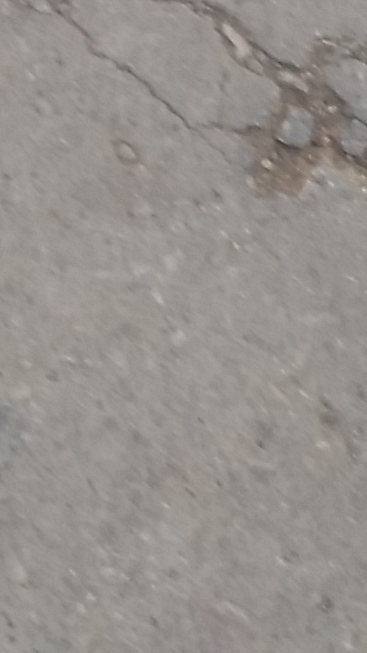A: (1, 2, 365, 208)
